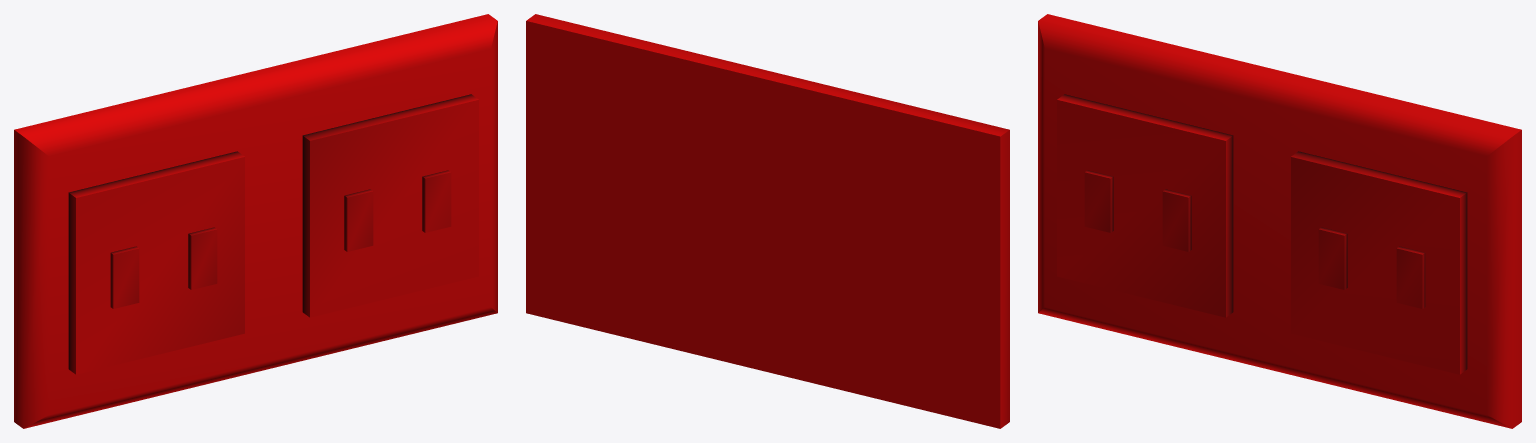
The model's file is CI_Decor_Socket_Plate.glb.
3 views of the same model, side by side, from view 1: azimuth 30°, elevation 25°; view 2: azimuth 150°, elevation 25°; view 3: azimuth 330°, elevation 25° (orthographic).
Visible parts, largest first — view 1: CI_Decor_Socket_Plate; view 2: CI_Decor_Socket_Plate; view 3: CI_Decor_Socket_Plate.
Boxes of the visible parts, x1,y1,x2,y2 form: CI_Decor_Socket_Plate: [14, 14, 497, 428]; CI_Decor_Socket_Plate: [526, 14, 1009, 428]; CI_Decor_Socket_Plate: [1038, 14, 1521, 428].
Bounding box in the file's own units: 0.146 × 0.086 × 0.0165.
